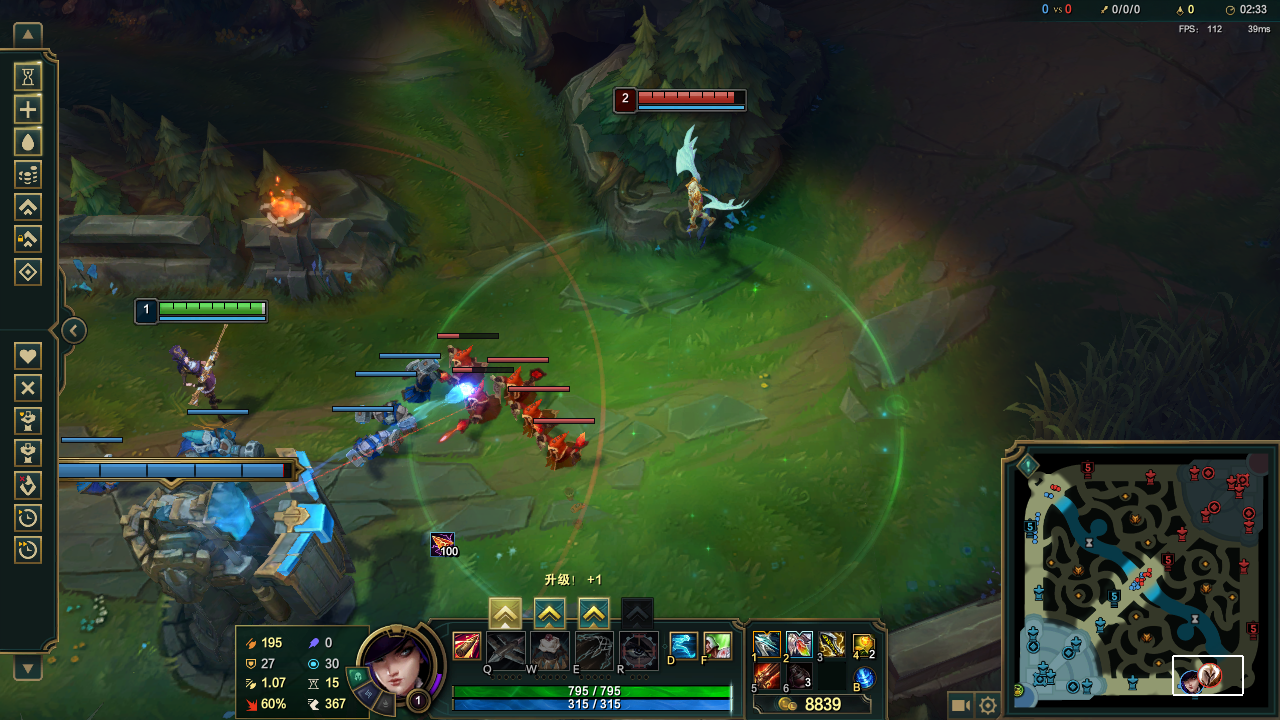DFYX: (637, 90, 748, 106)
